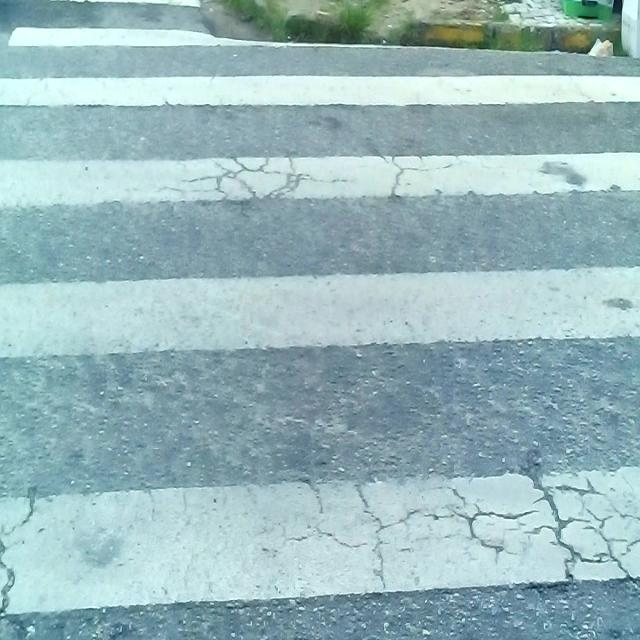crosswalk: (0, 0, 640, 640)
